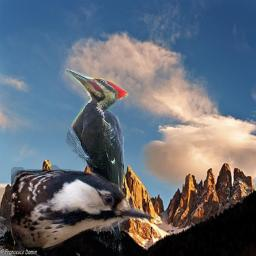Woodpecker: (11, 163, 154, 252), (63, 68, 129, 240)
